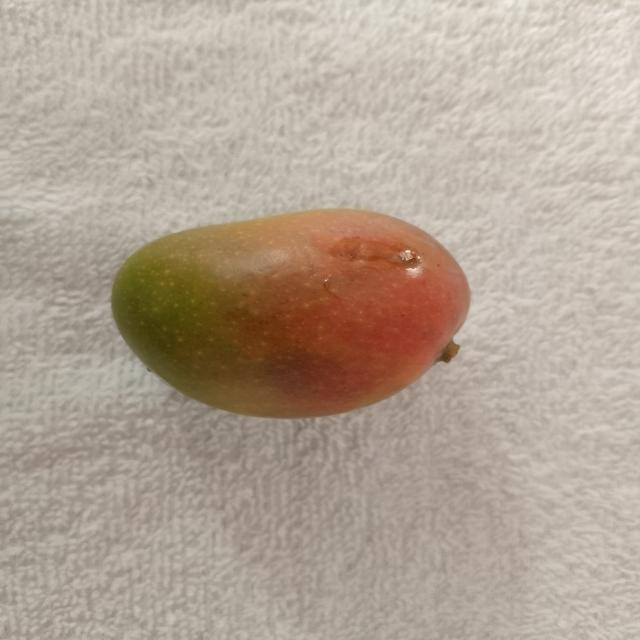mango: (112, 210, 469, 417)
